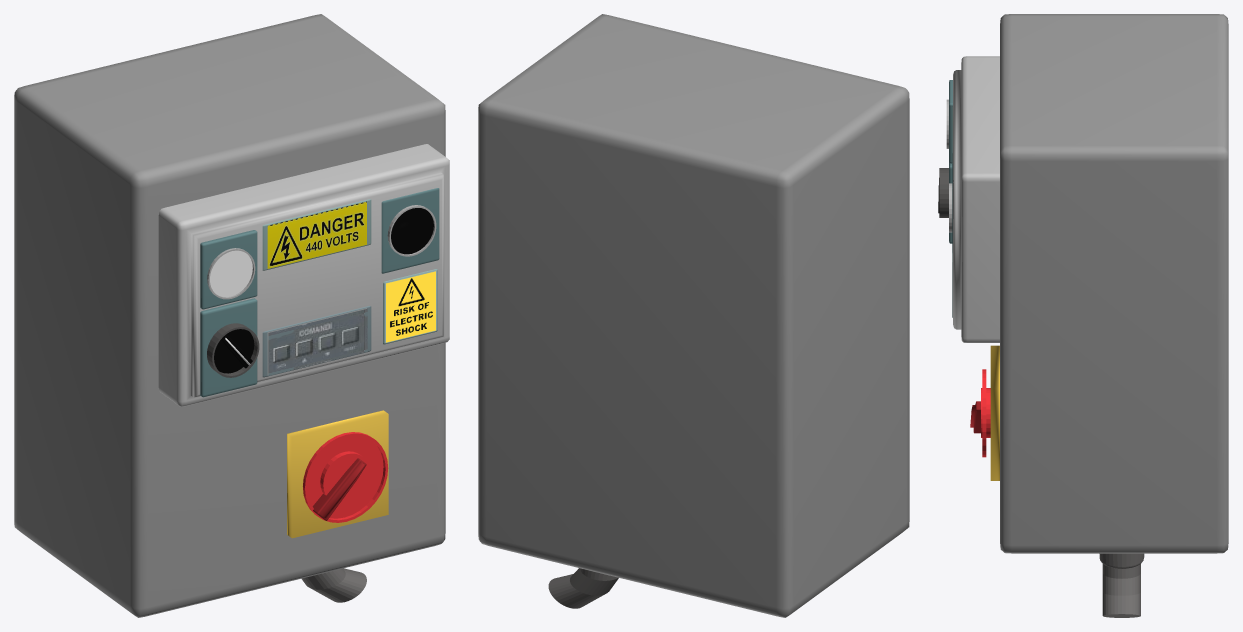
File: electric_command.gltf
3 views of the same model, side by side, from view 1: azimuth 30°, elevation 25°; view 2: azimuth 150°, elevation 25°; view 3: azimuth 270°, elevation 25° (orthographic). The views are drawn at different scales.
Visible parts, largest first — view 1: Cube, Cube.003, Cube.008, Cube.009, Cube.001, Circle.008, Circle, Cube.007, Cube.005, Cube.006, Cube.010, Circle.006 (+3 smaller); view 2: Cube, Circle.005; view 3: Cube, Cube.003, Circle.005, Cube.001, Circle.006, Circle.
Part boxes in pixels (x1,y1,x2,y2): Cube: [14, 14, 445, 617]; Cube.003: [158, 144, 449, 406]; Cube.008: [262, 306, 371, 377]; Cube.009: [262, 199, 371, 270]; Cube.001: [287, 410, 388, 538]; Circle.008: [207, 205, 436, 299]; Circle: [303, 432, 388, 522]; Cube.007: [383, 269, 437, 344]; Cube.005: [200, 298, 257, 397]; Cube.006: [381, 188, 439, 273]; Cube.010: [200, 230, 257, 309]; Circle.006: [207, 323, 259, 377]; Cube: [478, 14, 909, 617]; Circle.005: [548, 568, 618, 608]; Cube: [1000, 14, 1228, 553]; Cube.003: [953, 56, 999, 342]; Circle.005: [1099, 553, 1144, 617]; Cube.001: [990, 345, 999, 480]; Circle.006: [939, 168, 948, 217]; Circle: [982, 369, 986, 457].
Bounding box in the file's own units: 1 × 1.64 × 0.8839.
Materials: 16 (16 with a texture image).
